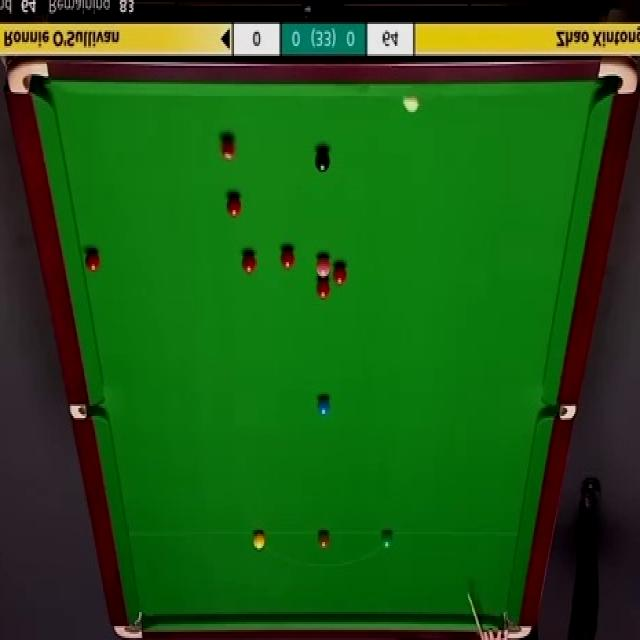black-ball: (315, 147, 331, 174)
blue-ball: (318, 394, 331, 416)
brown-ball: (318, 530, 330, 547)
green-ball: (382, 530, 393, 550)
pink-ball: (314, 253, 331, 279)
red-ball: (219, 138, 238, 164), (84, 248, 102, 274), (315, 278, 332, 303), (332, 264, 347, 290), (225, 194, 241, 218), (241, 250, 256, 274), (279, 248, 294, 268)
white-ball: (404, 90, 420, 113)
yellow-ball: (252, 530, 267, 551)
